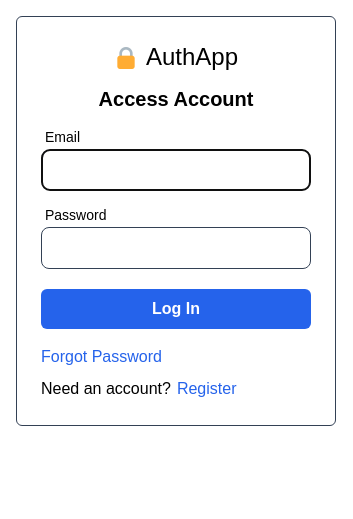
Test: AccountApp › login › error handling › shows unexpected error text if status but no message
Expected: the heading "AuthApp" is shown, [146,41,238,73]
In the field labelled "Email": (176, 170) [41,149,311,191], type "user@example.com"
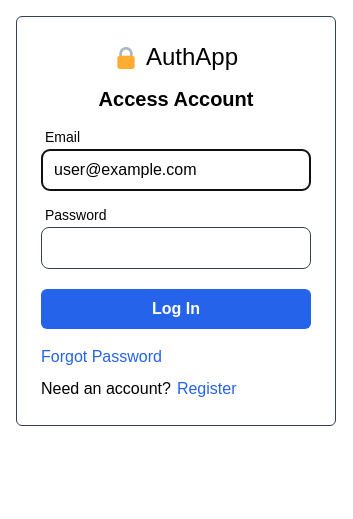
In the password field labelled "Password": (176, 248) [41,227,311,269], type "Passw0rd"
Then press Enter
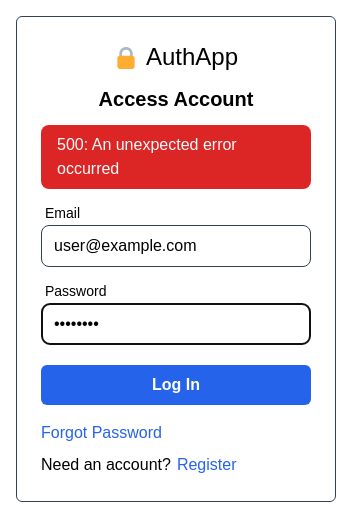
Now the text "500: An unexpected error occurred" is shown, box [41,125,311,189]
